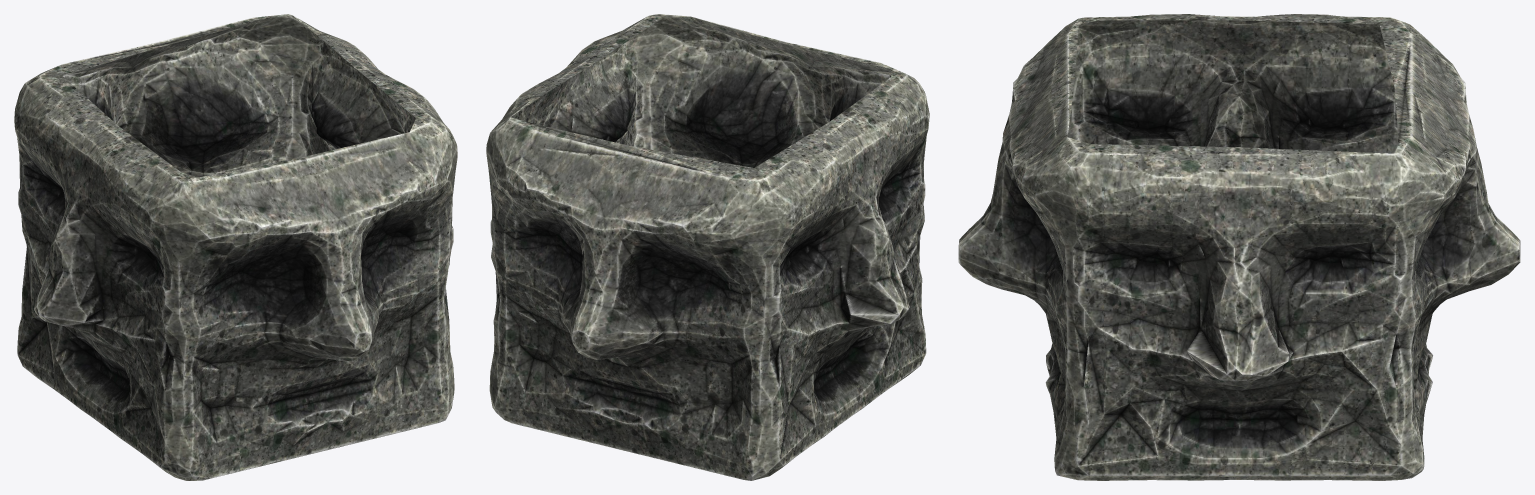
File: STONECUBE.fbx
3 views of the same model, side by side, from view 1: azimuth 30°, elevation 25°; view 2: azimuth 150°, elevation 25°; view 3: azimuth 270°, elevation 25° (orthographic). The views are drawn at different scales.
Parts seen in each view (by area): view 1: Cube; view 2: Cube; view 3: Cube.
Part boxes in pixels (x1=…): Cube: x1=14, y1=14, x2=457, y2=480; Cube: x1=486, y1=14, x2=929, y2=480; Cube: x1=958, y1=14, x2=1520, y2=480.
Bounding box in the file's own units: 469 × 342 × 522.
